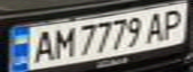7: (93, 19, 115, 53), (75, 21, 96, 56), (109, 16, 130, 51)
9: (124, 14, 148, 47)
A: (24, 28, 57, 64), (142, 9, 172, 43)
M: (48, 25, 78, 60)
P: (157, 6, 190, 40)
